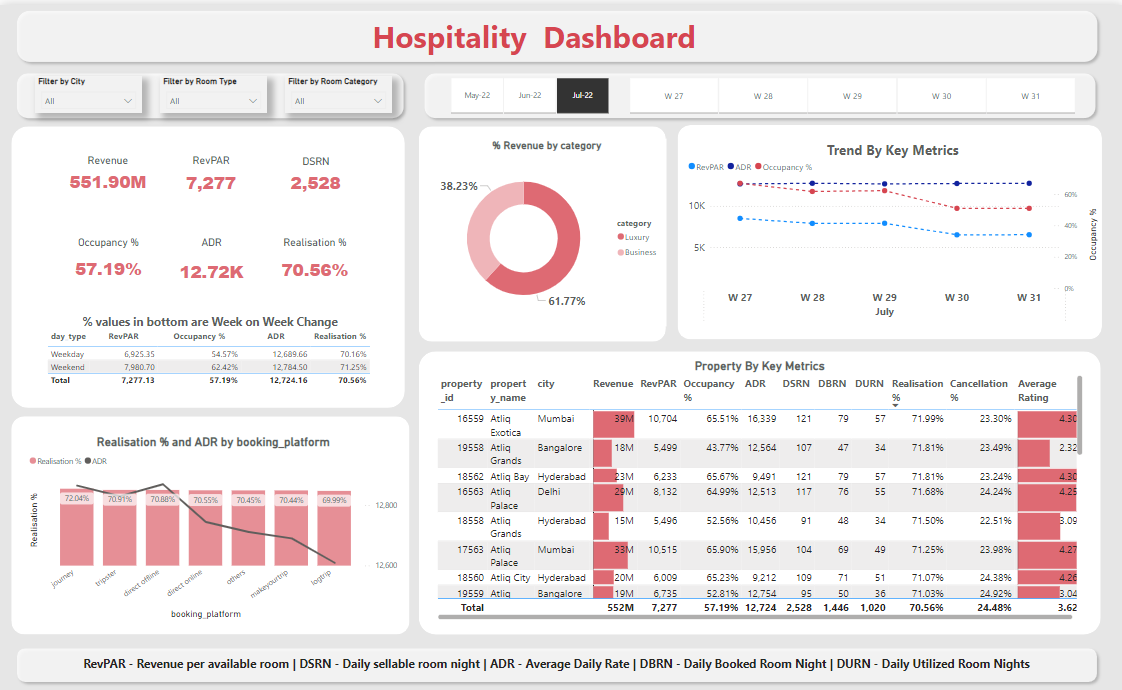

The dashboard page shown, as its layout file describes it:
{"tool":"powerbi","page":{"name":"Home","canvas":[1800,1100],"ordinal":0},"visuals":[{"type":"shape","box":[18.2,194.8,629.9,450.7],"z":0},{"type":"shape","box":[1083.9,191.8,679.1,343.3],"z":1000},{"type":"shape","box":[670.8,554.3,1091.4,453.4],"z":2000},{"type":"shape","box":[670.4,194.8,395.5,344.8],"z":3000},{"type":"shape","box":[18.2,659,637.3,349.3],"z":4000},{"type":"shape","box":[670,100,1091.7,90],"z":5000},{"type":"shape","box":[18.3,100.2,636.7,90],"z":6000},{"type":"tableEx","title":"Property By Key Metrics","fields":{"Values":["dim_hotels.property_id","dim_hotels.property_name","dim_hotels.city","Key_measure.Revenue","Key_measure.RevPAR","Key_measure.Occupancy %","Key_measure.ADR","Key_measure.DSRN","Key_measure.DBRN","Key_measure.DURN","Key_measure.Realisation %","Key_measure.Cancellation %"]},"box":[694.9,566.4,1043.1,422.4],"z":7000},{"type":"slicer","title":"Filter by City","fields":{"Values":["dim_hotels.city"]},"box":[55,114,171.7,58.3],"z":8000},{"type":"slicer","title":"Filter by Room Type","fields":{"Values":["dim_rooms.room_class"]},"box":[256.7,114,171.7,58.3],"z":9000},{"type":"slicer","fields":{"Values":["dim_date.mmm yy"]},"box":[695,110.2,301.7,70],"z":10000},{"type":"slicer","fields":{"Values":["dim_date.week no"]},"box":[981.7,110.2,761.7,70],"z":11000},{"type":"card","title":"Revenue","fields":{"Values":["Key_measure.Revenue"]},"box":[103.3,238.3,136.7,73.3],"z":12000},{"type":"donutChart","title":"% Revenue by category","fields":{"Y":["Key_measure.Revenue"],"Category":["dim_hotels.category"]},"box":[683.8,214.8,382,300],"z":13000},{"type":"lineStackedColumnComboChart","fields":{"Category":["fact_bookings.booking_platform"],"Y":["Key_measure.Realisation %"],"Y2":["Key_measure.ADR"]},"box":[42.1,688.8,598.5,300],"z":14000},{"type":"tableEx","title":"% values in bottom are Week on Week Change","fields":{"Values":["dim_date.day_type","Key_measure.RevPAR","Key_measure.Occupancy %","Key_measure.ADR","Key_measure.Realisation %"]},"box":[70,493.3,531.7,130],"z":15000},{"type":"card","title":"RevPAR","fields":{"Values":["Key_measure.RevPAR"]},"box":[267,238.3,143.3,75],"z":16000},{"type":"card","title":"DSRN","fields":{"Values":["Key_measure.DSRN"]},"box":[457.4,240,94.3,72.9],"z":17000},{"type":"card","title":"Occupancy %","fields":{"Values":["Key_measure.Occupancy %"]},"box":[90,370,166.7,85],"z":18000},{"type":"card","title":"ADR","fields":{"Values":["Key_measure.ADR"]},"box":[260.3,370,156.7,95],"z":19000},{"type":"card","title":"Realisation %","fields":{"Values":["Key_measure.Realisation %"]},"box":[428.3,370,151.7,88.3],"z":20000},{"type":"lineChart","title":"Trend By Key Metrics","fields":{"Category":["dim_date.date.Variation.Date Hierarchy.Month","dim_date.week no"],"Y":["Key_measure.RevPAR","Key_measure.ADR"],"Y2":["Key_measure.Occupancy %"]},"box":[1096.7,215,665,300],"z":21000},{"type":"shape","box":[18,1020,1746,72],"z":22000},{"type":"textbox","box":[128.3,1035,1545,43.3],"z":23000},{"type":"slicer","title":"Filter by Room Category","fields":{"Values":["dim_hotels.category"]},"box":[456.7,114,171.7,58.3],"z":24000},{"type":"shape","box":[18.3,0,1746.7,100],"z":25000},{"type":"textbox","box":[136.7,11.7,1463.3,76.7],"z":26000}]}

Visuals, with their boxes in screenshot pixels (x1, y1, x2, y2), scaled from the page's 1800x1100 canvas onto the 1122x690 screenshot:
shape: crop(11, 122, 404, 405)
shape: crop(676, 120, 1099, 336)
shape: crop(418, 348, 1098, 632)
shape: crop(418, 122, 664, 338)
shape: crop(11, 413, 409, 632)
shape: crop(418, 63, 1098, 119)
shape: crop(11, 63, 408, 119)
"Property By Key Metrics" tableEx: crop(433, 355, 1083, 620)
"Filter by City" slicer: crop(34, 72, 141, 108)
"Filter by Room Type" slicer: crop(160, 72, 267, 108)
slicer - dim_date.mmm yy: crop(433, 69, 621, 113)
slicer - dim_date.week no: crop(612, 69, 1087, 113)
"Revenue" card: crop(64, 149, 150, 195)
"% Revenue by category" donutChart: crop(426, 135, 664, 323)
lineStackedColumnComboChart - fact_bookings.booking_platform x Key_measure.Realisation %: crop(26, 432, 399, 620)
"% values in bottom are Week on Week Change" tableEx: crop(44, 309, 375, 391)
"RevPAR" card: crop(166, 149, 256, 197)
"DSRN" card: crop(285, 151, 344, 196)
"Occupancy %" card: crop(56, 232, 160, 285)
"ADR" card: crop(162, 232, 260, 292)
"Realisation %" card: crop(267, 232, 362, 287)
"Trend By Key Metrics" lineChart: crop(684, 135, 1098, 323)
shape: crop(11, 640, 1100, 685)
textbox: crop(80, 649, 1043, 676)
"Filter by Room Category" slicer: crop(285, 72, 392, 108)
shape: crop(11, 0, 1100, 63)
textbox: crop(85, 7, 997, 55)
